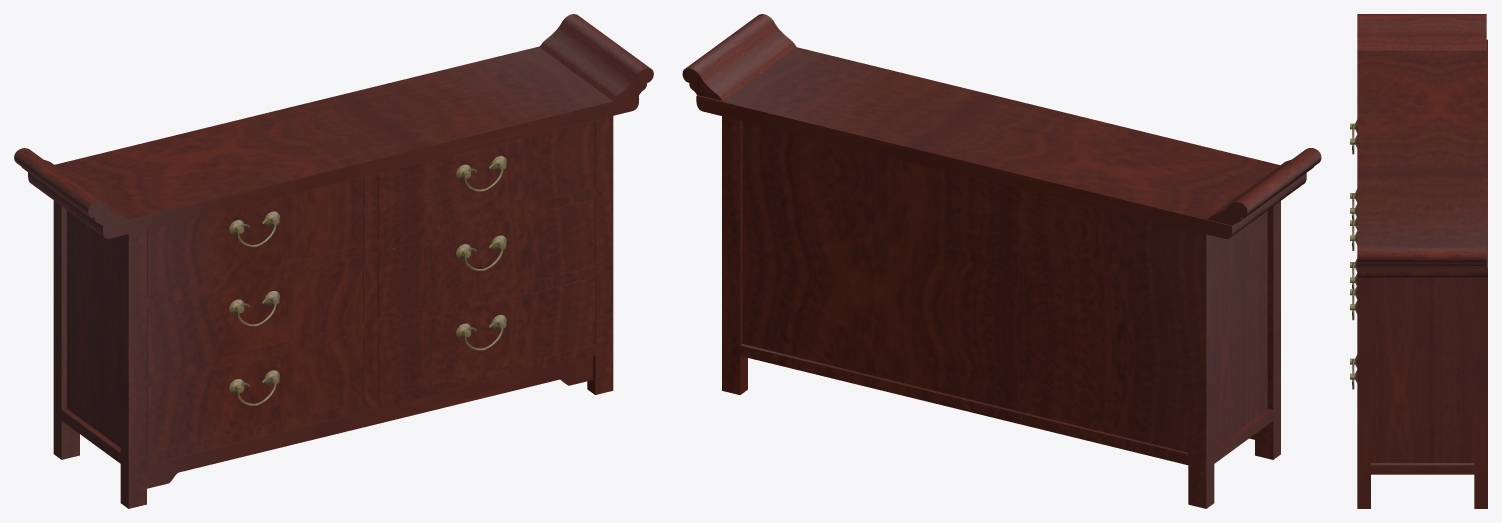
Rendered from raw_model.obj.
The picture shows the model from 3 angles, left to right: view 1: azimuth 30°, elevation 25°; view 2: azimuth 150°, elevation 25°; view 3: azimuth 270°, elevation 25°; orthographic projection. The views are drawn at different scales.
Parts seen in each view (by area): view 1: solid_001, solid_002; view 2: solid_001; view 3: solid_001, solid_002.
Boxes of the visible parts, bbox=[...] form: solid_001: bbox=[14, 14, 653, 508]; solid_002: bbox=[229, 156, 506, 406]; solid_001: bbox=[682, 14, 1321, 508]; solid_001: bbox=[1357, 14, 1487, 508]; solid_002: bbox=[1350, 120, 1357, 389].
Bounding box in the file's own units: 1.66 × 0.8803 × 0.4014.
Materials: 1 (1 with a texture image).
